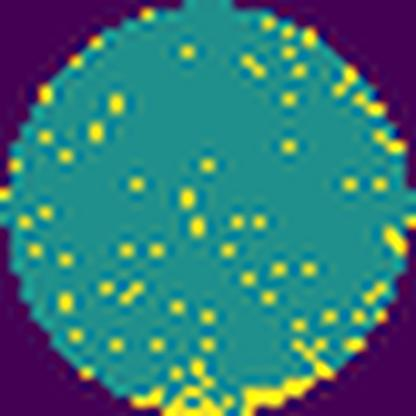Edge-Loc: (239, 330, 334, 416), (154, 363, 234, 415)
